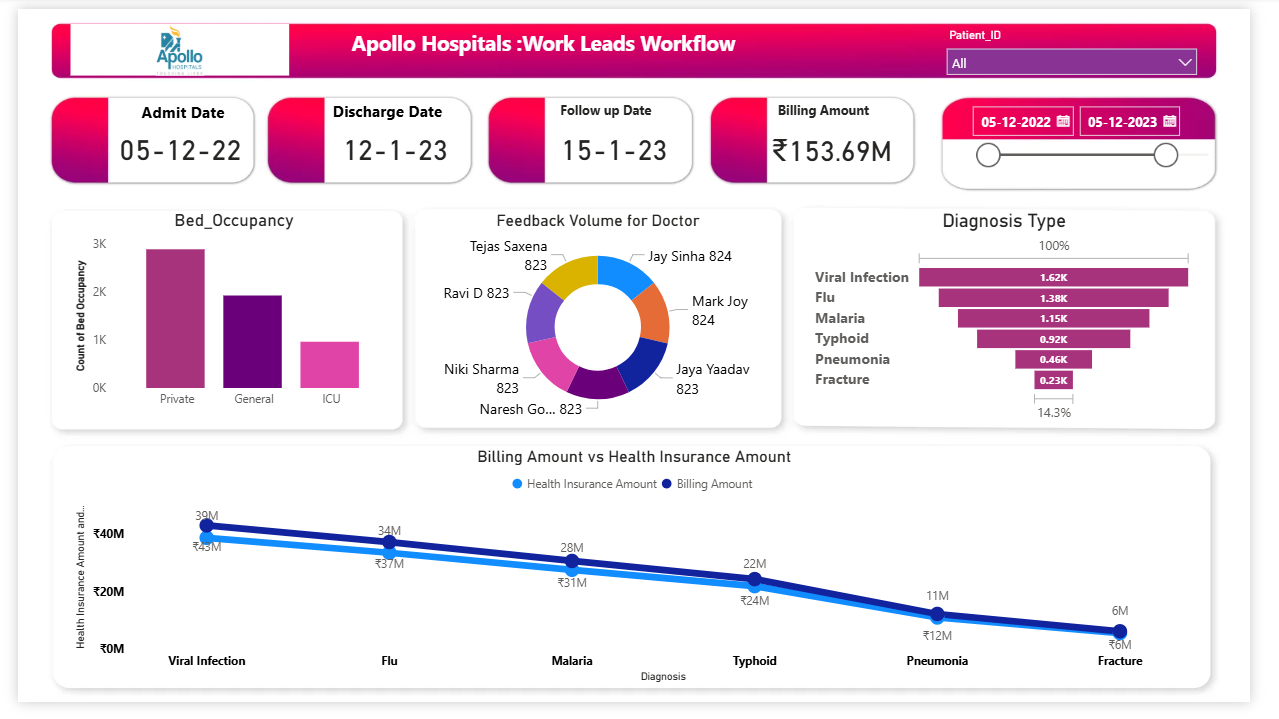

Layout of this report page (visuals, bound fields, positions):
{"tool":"powerbi","page":{"name":"Page 1","canvas":[1280,720],"ordinal":0},"visuals":[{"type":"textbox","box":[341.6,15.6,471.4,53.2],"z":1000},{"type":"slicer","fields":{"Values":["Sheet1.Patient_ID"]},"box":[954.5,15.6,280.5,53.2],"z":2000},{"type":"card","fields":{"Values":["Min(Sheet1.Admit_Date)"]},"box":[93.5,118.2,150.6,53.2],"z":3000},{"type":"textbox","box":[123.4,90.9,120.8,37.7],"z":4000},{"type":"textbox","box":[558.4,90.9,120.8,37.7],"z":5000},{"type":"textbox","box":[322.1,89.6,145.5,37.7],"z":6000},{"type":"card","fields":{"Values":["Min(Sheet1.Followup Date)"]},"box":[544.2,118.2,150.6,53.2],"z":7000},{"type":"card","fields":{"Values":["Min(Sheet1.Discharge_Date)"]},"box":[316.9,118.2,150.6,53.2],"z":8000},{"type":"card","fields":{"Values":["Sum(Sheet1.Billing Amount)"]},"box":[770.1,119.5,150.6,53.2],"z":9000},{"type":"textbox","box":[784.4,90.9,120.8,37.7],"z":10000},{"type":"slicer","fields":{"Values":["Sheet1.Admit_Date"]},"box":[979.2,90.9,280.5,92.2],"z":11000},{"type":"columnChart","title":" Bed_Occupancy ","fields":{"Category":["Sheet1.Bed_Occupancy"],"Y":["CountNonNull(Sheet1.Bed_Occupancy)"]},"box":[54.5,209.1,340.3,224.7],"z":12000},{"type":"donutChart","title":"Feedback Volume for Doctor","fields":{"Category":["Sheet1.Doctor"],"Y":["CountNonNull(Sheet1.Doctor)"]},"box":[420.8,209.1,363.6,224.7],"z":13000},{"type":"funnel","title":"Diagnosis Type","fields":{"Category":["Sheet1.Diagnosis"],"Y":["CountNonNull(Sheet1.Diagnosis)"]},"box":[823.4,209.1,402.6,224.7],"z":14000},{"type":"lineChart","title":"Billing Amount vs Health Insurance Amount","fields":{"Y":["Sum(Sheet1.Health Insurance Amount)","Sum(Sheet1.Billing Amount)"],"Category":["Sheet1.Diagnosis"]},"box":[54.5,454.5,1171.4,250.6],"z":14001},{"type":"image","box":[54.5,15.6,227.3,53.2],"z":14002}]}

Visuals, with their boxes in screenshot pixels (x1, y1, x2, y2), scaled from the page's 1280x720 canvas onto the 1279x719 screenshot:
textbox: crop(341, 16, 812, 69)
slicer - Sheet1.Patient_ID: crop(954, 16, 1234, 69)
card - Min(Sheet1.Admit_Date): crop(93, 118, 244, 171)
textbox: crop(123, 91, 244, 128)
textbox: crop(558, 91, 679, 128)
textbox: crop(322, 89, 467, 127)
card - Min(Sheet1.Followup Date): crop(544, 118, 694, 171)
card - Min(Sheet1.Discharge_Date): crop(317, 118, 467, 171)
card - Sum(Sheet1.Billing Amount): crop(769, 119, 920, 172)
textbox: crop(784, 91, 904, 128)
slicer - Sheet1.Admit_Date: crop(978, 91, 1259, 183)
" Bed_Occupancy " columnChart: crop(54, 209, 394, 433)
"Feedback Volume for Doctor" donutChart: crop(420, 209, 784, 433)
"Diagnosis Type" funnel: crop(823, 209, 1225, 433)
"Billing Amount vs Health Insurance Amount" lineChart: crop(54, 454, 1225, 704)
image: crop(54, 16, 282, 69)
